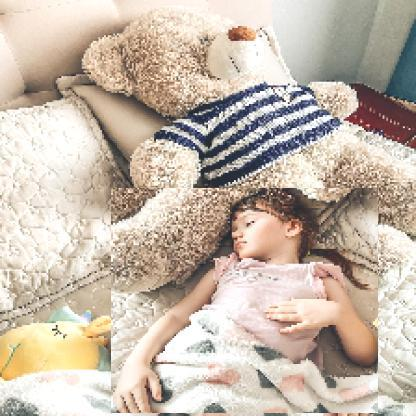child: (112, 189, 380, 415)
